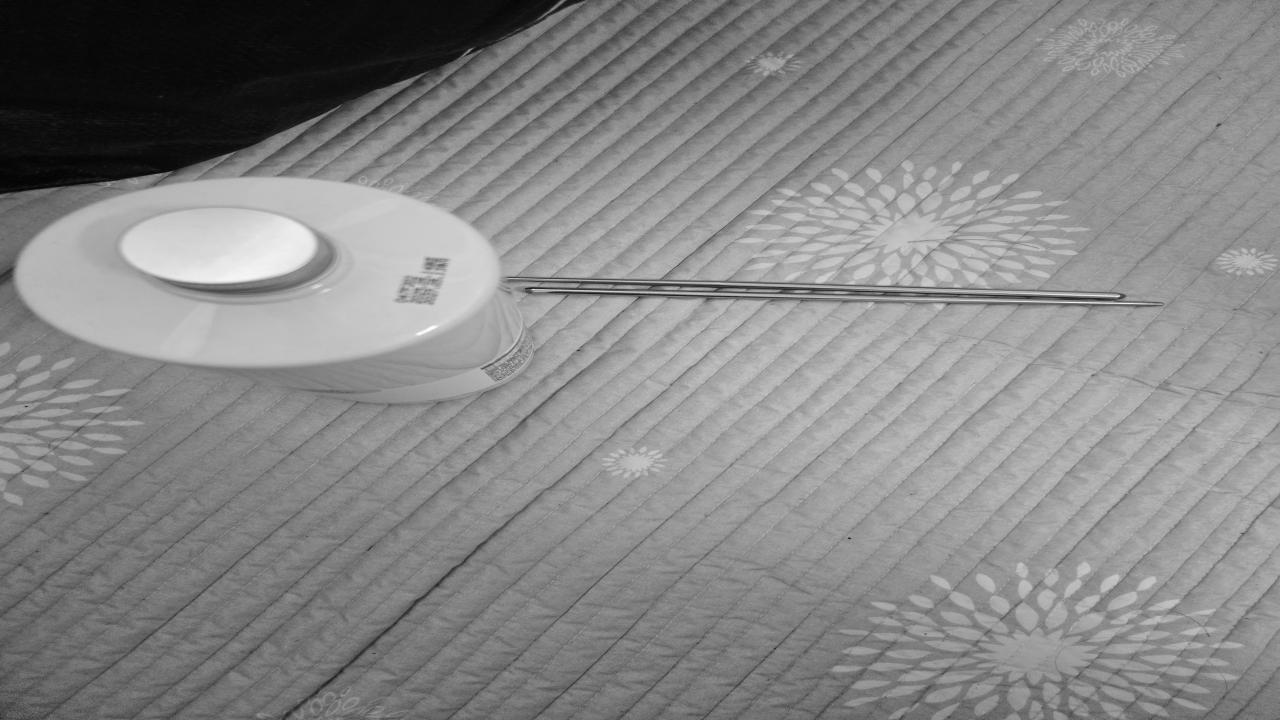chopstick: (502, 276, 1158, 308)
